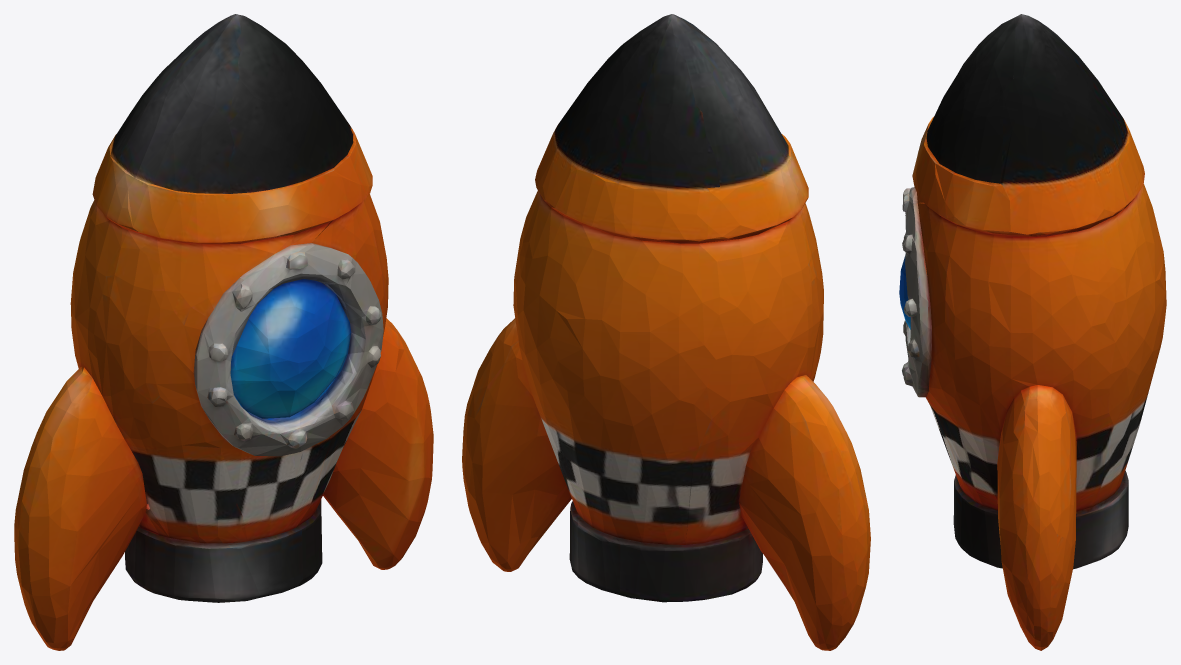
Rendered from firework.glb.
3 views of the same model, side by side, from view 1: azimuth 30°, elevation 25°; view 2: azimuth 150°, elevation 25°; view 3: azimuth 270°, elevation 25° (orthographic). The views are drawn at different scales.
Visible parts, largest first — view 1: geometry_0; view 2: geometry_0; view 3: geometry_0.
Boxes of the visible parts, x1,y1,x2,y2 form: geometry_0: (14, 14, 433, 650); geometry_0: (462, 14, 870, 650); geometry_0: (899, 14, 1166, 650).
Bounding box in the file's own units: 0.7113 × 0.9968 × 0.4284.
1 material, 1 textured.
